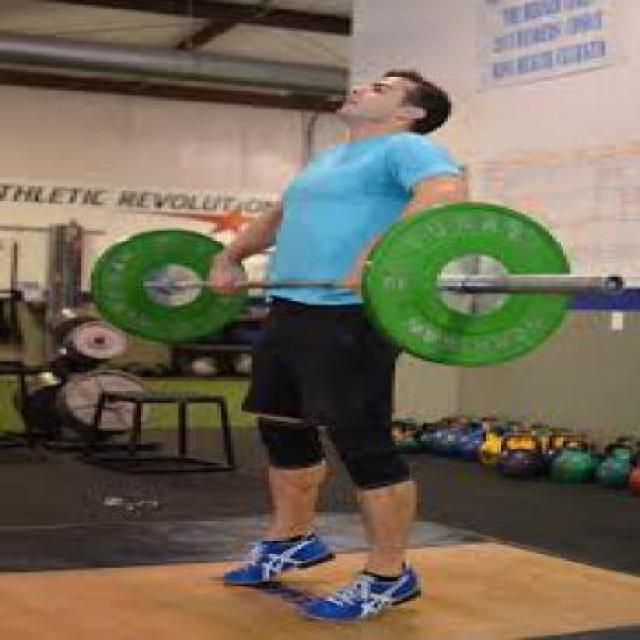barbell: (344, 194, 607, 374)
